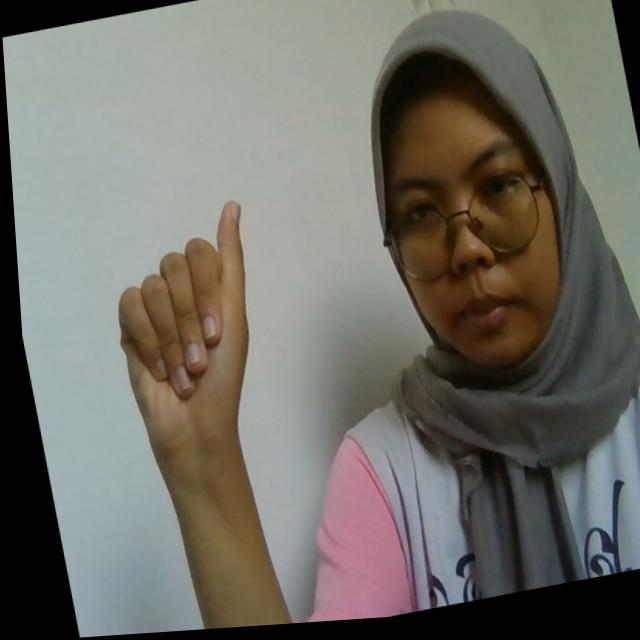A: (92, 198, 279, 452)
